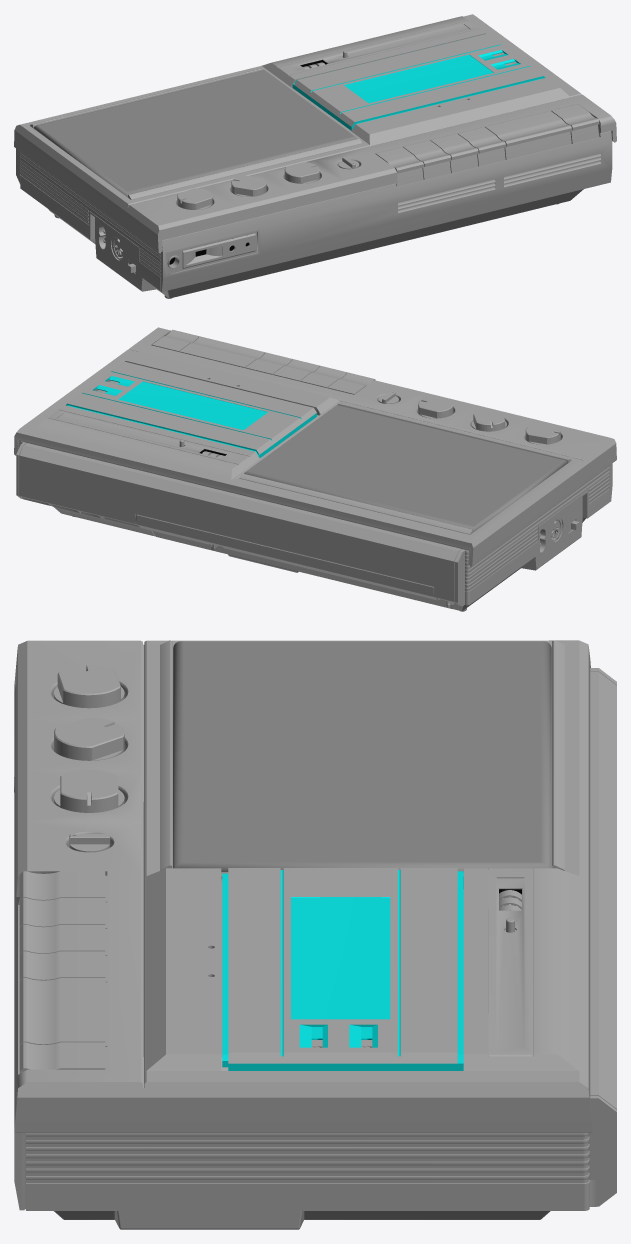
Rendered from CRecorder_L.fbx.
3 renders of one model, top to bottom at view 1: azimuth 30°, elevation 25°; view 2: azimuth 150°, elevation 25°; view 3: azimuth 270°, elevation 25°, orthographic. The views are drawn at different scales.
Visible parts, largest first — view 1: Bottom_Part_Lowpoly, TopPart_Lowpoly, Grill, Cassette_Glass_Lowpoly, Button_Big7_Lowpoly, Mic_Input_Lowpoly, Button_Big6_Lowpoly, Button_Big1_Lowpoly, Button_Big2_Lowpoly, Button_Big3_Lowpoly, Button_Big_Lowpoly, Large_Knob_Lowpoly (+2 smaller); view 2: TopPart_Lowpoly, Bottom_Part_Lowpoly, Grill, Cassette_Glass_Lowpoly, Battery_Cover_Lowpoly, Button_Big7_Lowpoly, Large_Knob2_Lowpoly, Large_Knob_Lowpoly, Large_Knob1_Lowpoly, Button_Big6_Lowpoly, Button_Big2_Lowpoly, Button_Big3_Lowpoly (+2 smaller); view 3: TopPart_Lowpoly, Grill, Bottom_Part_Lowpoly, Cassette_Glass_Lowpoly, Handle_Lowpoly, Button_Big7_Lowpoly, Large_Knob1_Lowpoly, Large_Knob_Lowpoly, Large_Knob2_Lowpoly, Button_Big2_Lowpoly, Button_Big3_Lowpoly, Button_Big6_Lowpoly (+2 smaller).
Part boxes in pixels (box(x1,y1,x2,y2)): Bottom_Part_Lowpoly: box(16, 131, 612, 298); TopPart_Lowpoly: box(14, 14, 616, 253); Grill: box(33, 70, 357, 197); Cassette_Glass_Lowpoly: box(292, 34, 545, 130); Button_Big7_Lowpoly: box(485, 111, 571, 159); Mic_Input_Lowpoly: box(182, 233, 255, 268); Button_Big6_Lowpoly: box(551, 104, 599, 143); Button_Big1_Lowpoly: box(403, 140, 451, 179); Button_Big2_Lowpoly: box(430, 133, 478, 173); Button_Big3_Lowpoly: box(458, 127, 505, 166); Button_Big_Lowpoly: box(375, 147, 423, 186); Large_Knob_Lowpoly: box(284, 162, 319, 183); TopPart_Lowpoly: box(14, 327, 616, 566); Bottom_Part_Lowpoly: box(16, 441, 612, 611); Grill: box(244, 405, 567, 532); Cassette_Glass_Lowpoly: box(66, 361, 316, 457); Battery_Cover_Lowpoly: box(136, 514, 452, 608); Button_Big7_Lowpoly: box(179, 336, 265, 368); Large_Knob2_Lowpoly: box(525, 423, 560, 444); Large_Knob_Lowpoly: box(418, 397, 453, 418); Large_Knob1_Lowpoly: box(471, 410, 506, 431); Button_Big6_Lowpoly: box(152, 329, 199, 351); Button_Big2_Lowpoly: box(273, 359, 319, 381); Button_Big3_Lowpoly: box(245, 352, 292, 374); TopPart_Lowpoly: box(14, 640, 592, 1132); Grill: box(173, 641, 551, 871); Bottom_Part_Lowpoly: box(14, 668, 616, 1229); Cassette_Glass_Lowpoly: box(222, 868, 463, 1070); Handle_Lowpoly: box(26, 1180, 596, 1210); Button_Big7_Lowpoly: box(19, 978, 107, 1046); Large_Knob1_Lowpoly: box(54, 717, 124, 760); Large_Knob_Lowpoly: box(54, 769, 124, 812); Large_Knob2_Lowpoly: box(54, 665, 124, 708); Button_Big2_Lowpoly: box(19, 924, 107, 955); Button_Big3_Lowpoly: box(19, 951, 107, 982); Button_Big6_Lowpoly: box(19, 1042, 107, 1073).
Size of the model in its own units: 2937 by 600 by 1673.
